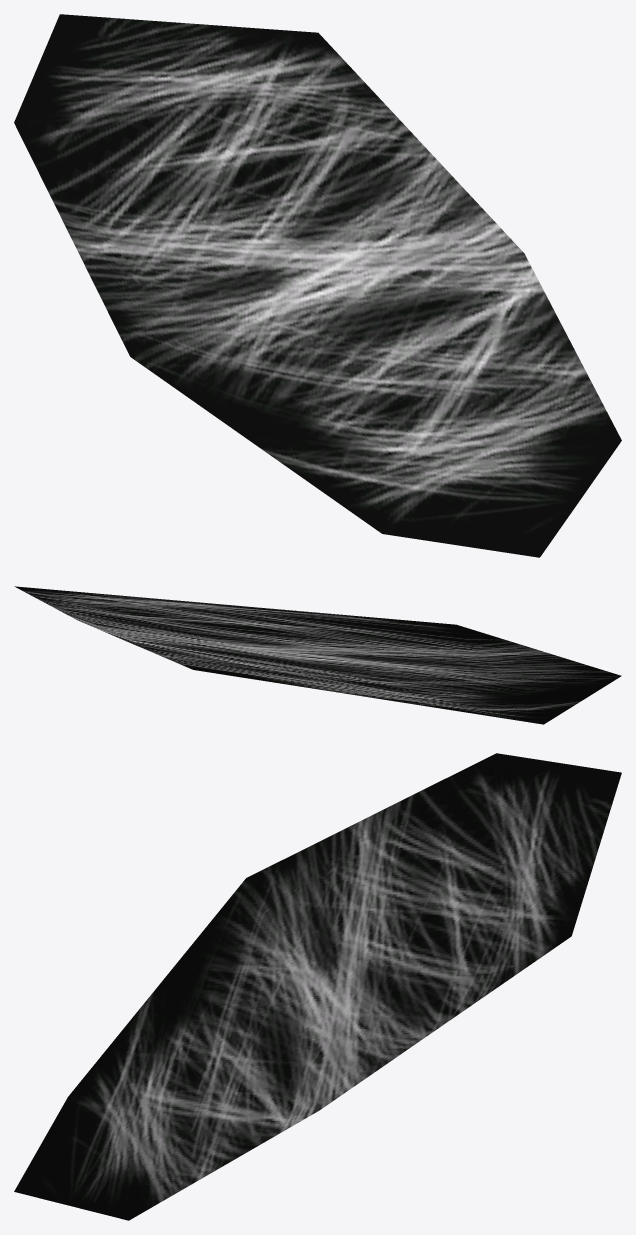
The model's file is MIRKWOOD_SPIDERWEB_COVERS02.fbx.
3 renders of one model, top to bottom at view 1: azimuth 30°, elevation 25°; view 2: azimuth 150°, elevation 25°; view 3: azimuth 270°, elevation 25°, orthographic. The views are drawn at different scales.
Parts seen in each view (by area): view 1: MIRKWOOD_SPIDERWEB_COVERS02; view 2: MIRKWOOD_SPIDERWEB_COVERS02; view 3: MIRKWOOD_SPIDERWEB_COVERS02.
Boxes of the visible parts, bbox=[...] form: MIRKWOOD_SPIDERWEB_COVERS02: bbox=[14, 14, 621, 557]; MIRKWOOD_SPIDERWEB_COVERS02: bbox=[14, 586, 621, 724]; MIRKWOOD_SPIDERWEB_COVERS02: bbox=[14, 753, 621, 1220].
Size of the model in its own units: 31618 by 24708 by 39886.
Materials: 1 (1 with a texture image).
